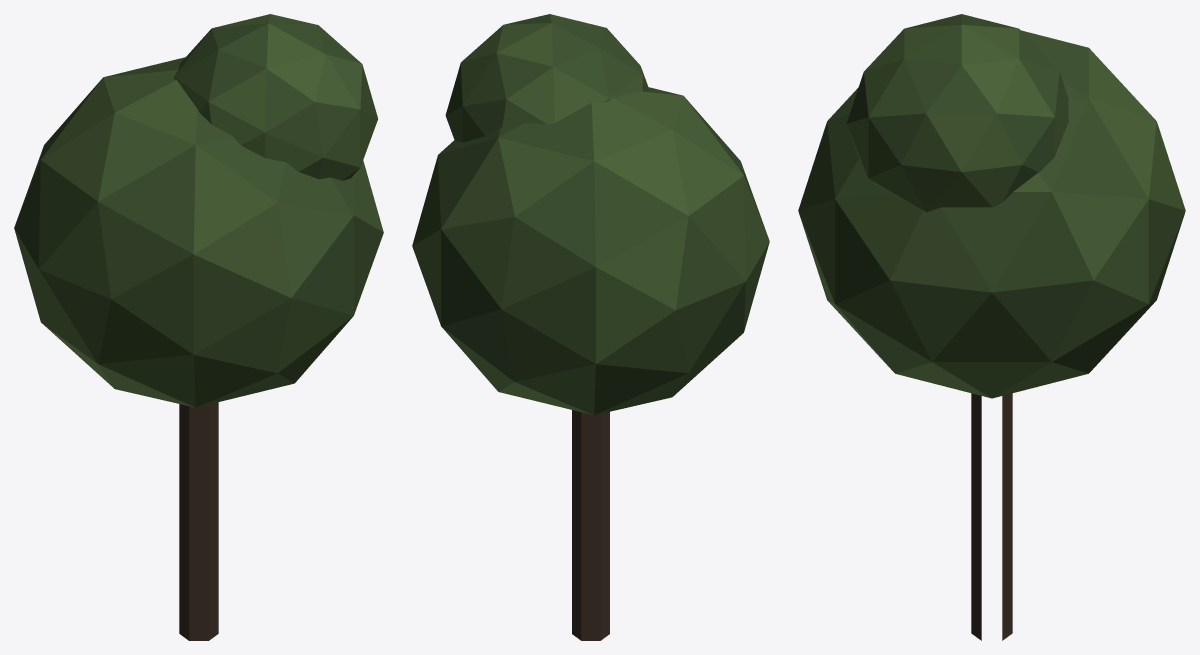
Rendered from tree.glb.
3 renders of one model, left to right at view 1: azimuth 30°, elevation 25°; view 2: azimuth 150°, elevation 25°; view 3: azimuth 270°, elevation 25°, orthographic. The views are drawn at different scales.
Size of the model in its own units: 3.2 by 5.8 by 3.2.
